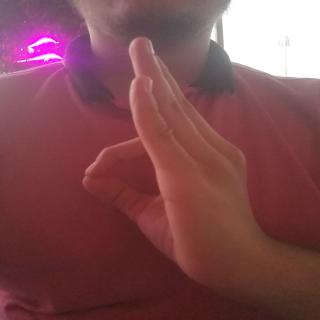Space: (77, 34, 263, 277)
